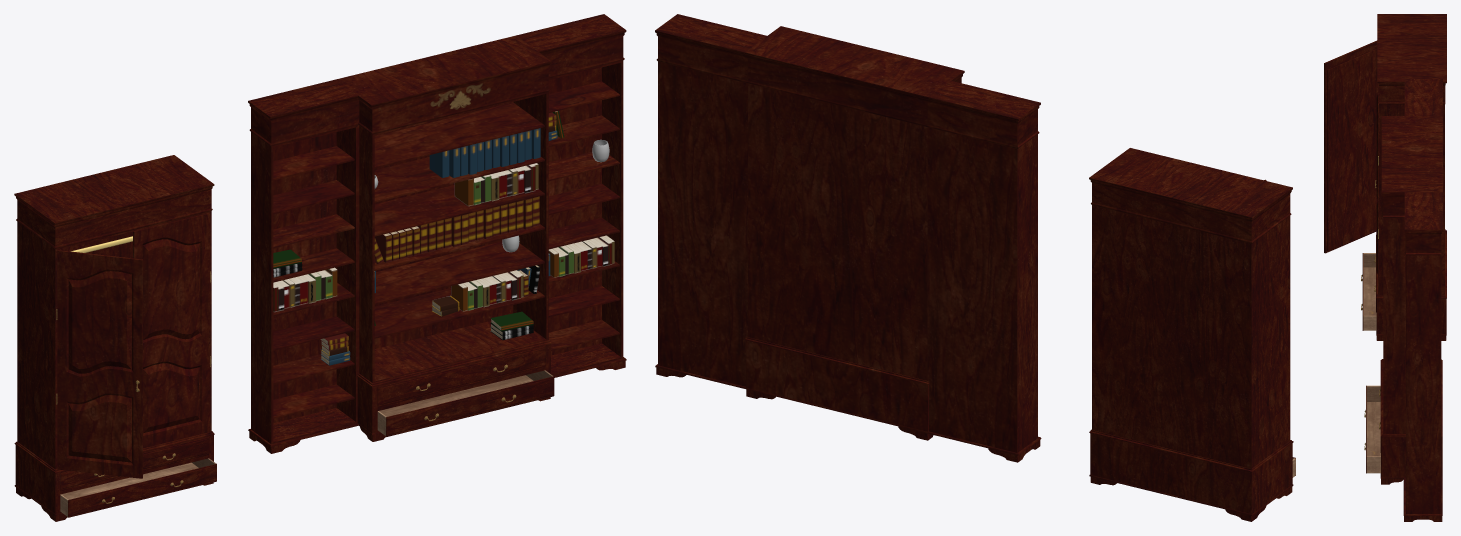
The model's file is Wardrobe_and_Bookshelf.glb.
3 renders of one model, left to right at view 1: azimuth 30°, elevation 25°; view 2: azimuth 150°, elevation 25°; view 3: azimuth 270°, elevation 25°, orthographic. The views are drawn at different scales.
Visible parts, largest first — view 1: Bookshelf_Wardrope_M_0, Wardrobe_Wardrope_M_0, Cabinet_Door_l_Wardrope_M_0, Cabinet_Door_r_Wardrope_M_0, Wardrope_Drawer_2_Wardrope_M_0, Wardrobe_Drawer_2_Wardrope_M_0, Wardrope_Drawer_1_Wardrope_M_0, Bookfront4_Wardrope_M_0, Bookfront8_Wardrope_M_0, Bookfront7_Wardrope_M_0, Bookfront3_Wardrope_M_0, Wardrobe_Drawer_1_Wardrope_M_0; view 2: Bookshelf_Wardrope_M_0, Wardrobe_Wardrope_M_0; view 3: Bookshelf_Wardrope_M_0, Cabinet_Door_l_Wardrope_M_0, Wardrobe_Wardrope_M_0, Wardrope_Drawer_2_Wardrope_M_0, Wardrobe_Drawer_2_Wardrope_M_0, Cabinet_Door_r_Wardrope_M_0.
Boxes of the visible parts, x1=… form: Bookshelf_Wardrope_M_0: x1=248, y1=14, x2=626, y2=453; Wardrobe_Wardrope_M_0: x1=14, y1=155, x2=214, y2=521; Cabinet_Door_l_Wardrope_M_0: x1=56, y1=250, x2=142, y2=478; Cabinet_Door_r_Wardrope_M_0: x1=133, y1=213, x2=211, y2=448; Wardrope_Drawer_2_Wardrope_M_0: x1=377, y1=370, x2=554, y2=436; Wardrobe_Drawer_2_Wardrope_M_0: x1=60, y1=458, x2=216, y2=517; Wardrope_Drawer_1_Wardrope_M_0: x1=377, y1=346, x2=545, y2=406; Bookfront4_Wardrope_M_0: x1=454, y1=163, x2=538, y2=206; Bookfront8_Wardrope_M_0: x1=451, y1=270, x2=523, y2=311; Bookfront7_Wardrope_M_0: x1=548, y1=235, x2=614, y2=277; Bookfront3_Wardrope_M_0: x1=273, y1=267, x2=337, y2=312; Wardrobe_Drawer_1_Wardrope_M_0: x1=60, y1=437, x2=209, y2=490; Bookshelf_Wardrope_M_0: x1=655, y1=14, x2=1041, y2=462; Wardrobe_Wardrope_M_0: x1=1089, y1=148, x2=1293, y2=521; Bookshelf_Wardrope_M_0: x1=1380, y1=79, x2=1442, y2=521; Cabinet_Door_l_Wardrope_M_0: x1=1324, y1=40, x2=1377, y2=253; Wardrobe_Wardrope_M_0: x1=1376, y1=14, x2=1446, y2=340; Wardrope_Drawer_2_Wardrope_M_0: x1=1364, y1=385, x2=1380, y2=473; Wardrobe_Drawer_2_Wardrope_M_0: x1=1361, y1=253, x2=1376, y2=330; Cabinet_Door_r_Wardrope_M_0: x1=1375, y1=83, x2=1378, y2=294.
Size of the model in its own units: 4.45 by 2.44 by 0.9274.
1 material, 1 textured.
